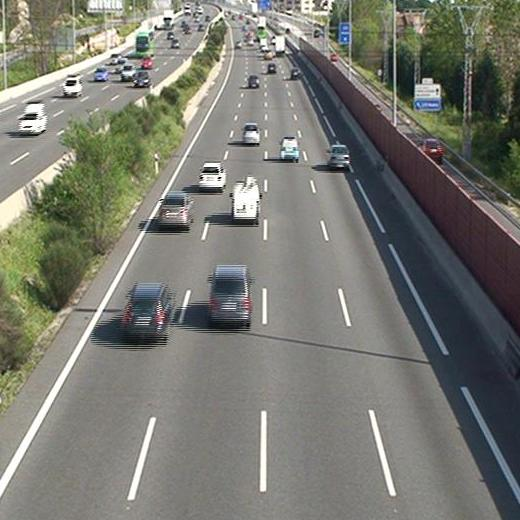car: (121, 284, 171, 336), (210, 266, 252, 324), (157, 193, 192, 227), (199, 162, 226, 187), (279, 137, 300, 160), (328, 145, 349, 168), (242, 123, 261, 143), (247, 74, 260, 86), (267, 62, 276, 74), (289, 69, 300, 78), (262, 50, 271, 60)
small-truck: (274, 35, 285, 56)
van: (232, 182, 261, 221)
